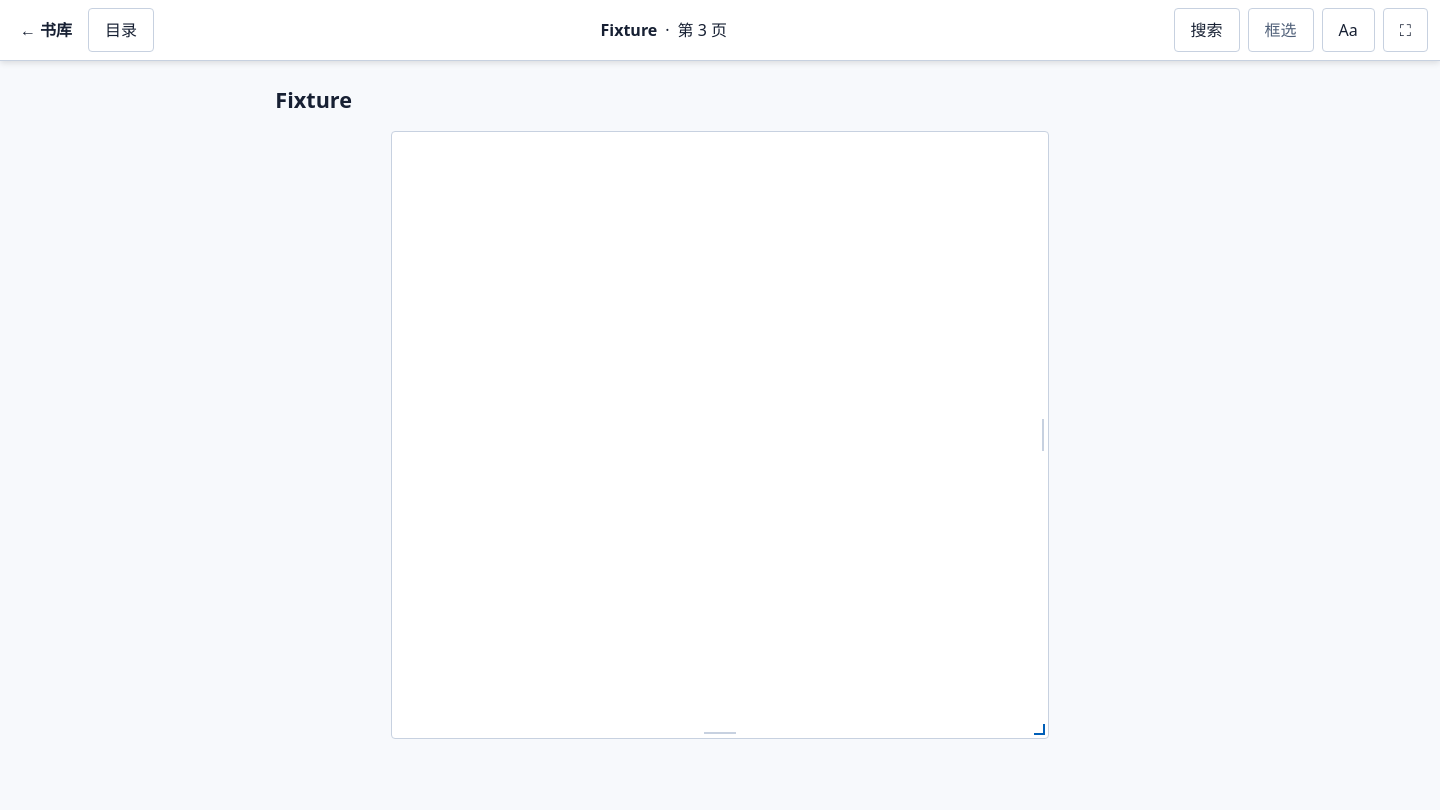
Test: ReaderLayout › renders exactly the minimal toolbar contract and keeps the adapter mount stable across drawers
Expected: the element named "阅读工具栏" shows "书库", [12,8,80,52]
Expected: the element named "阅读工具栏" shows "Fixture · 第 3 页", [0,0,1439,61]
Click the button "目录": (121, 30) [88,8,154,52]
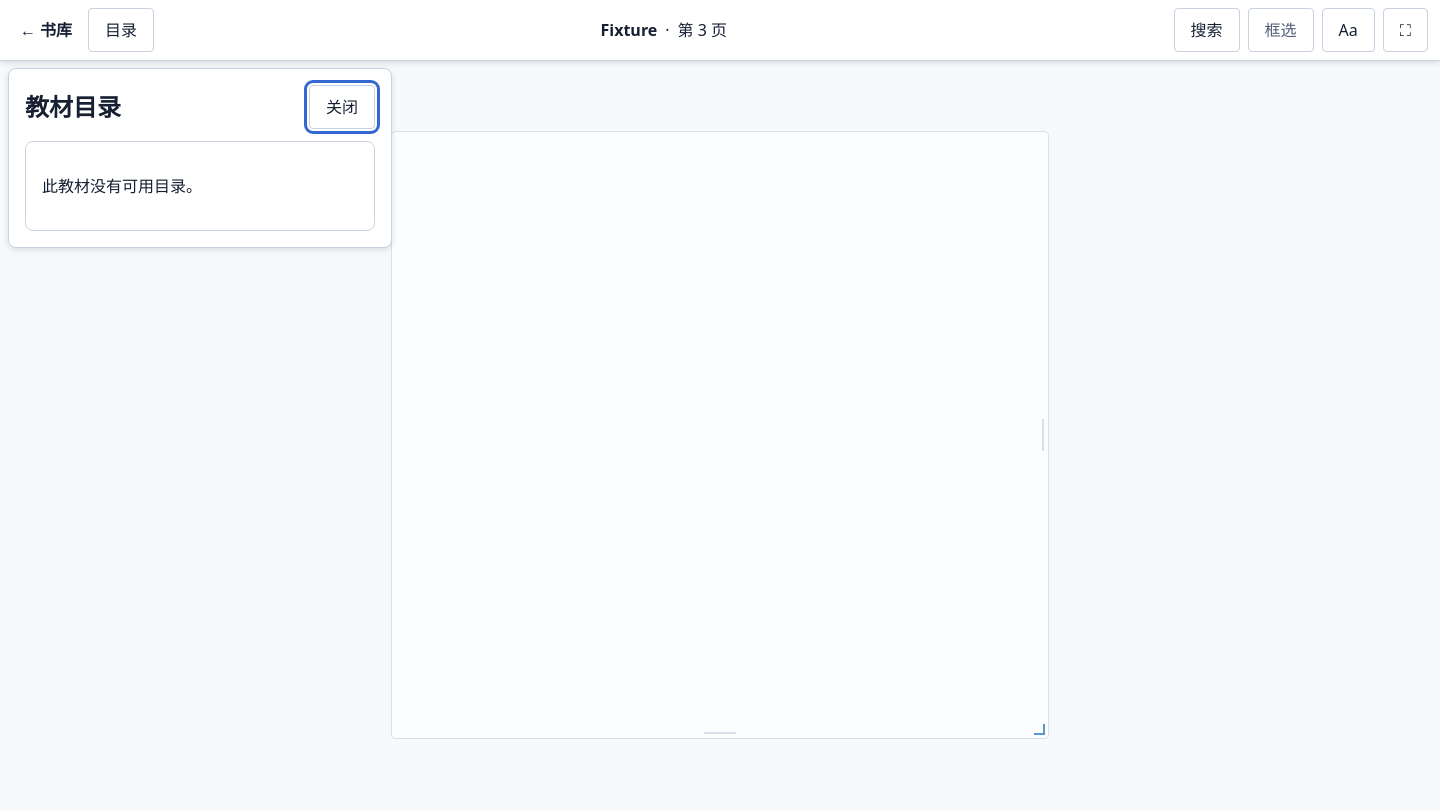
Now the dialog "教材目录" is shown, box [8,68,392,248]
Click the button "关闭": (342, 107) [309,85,375,129]
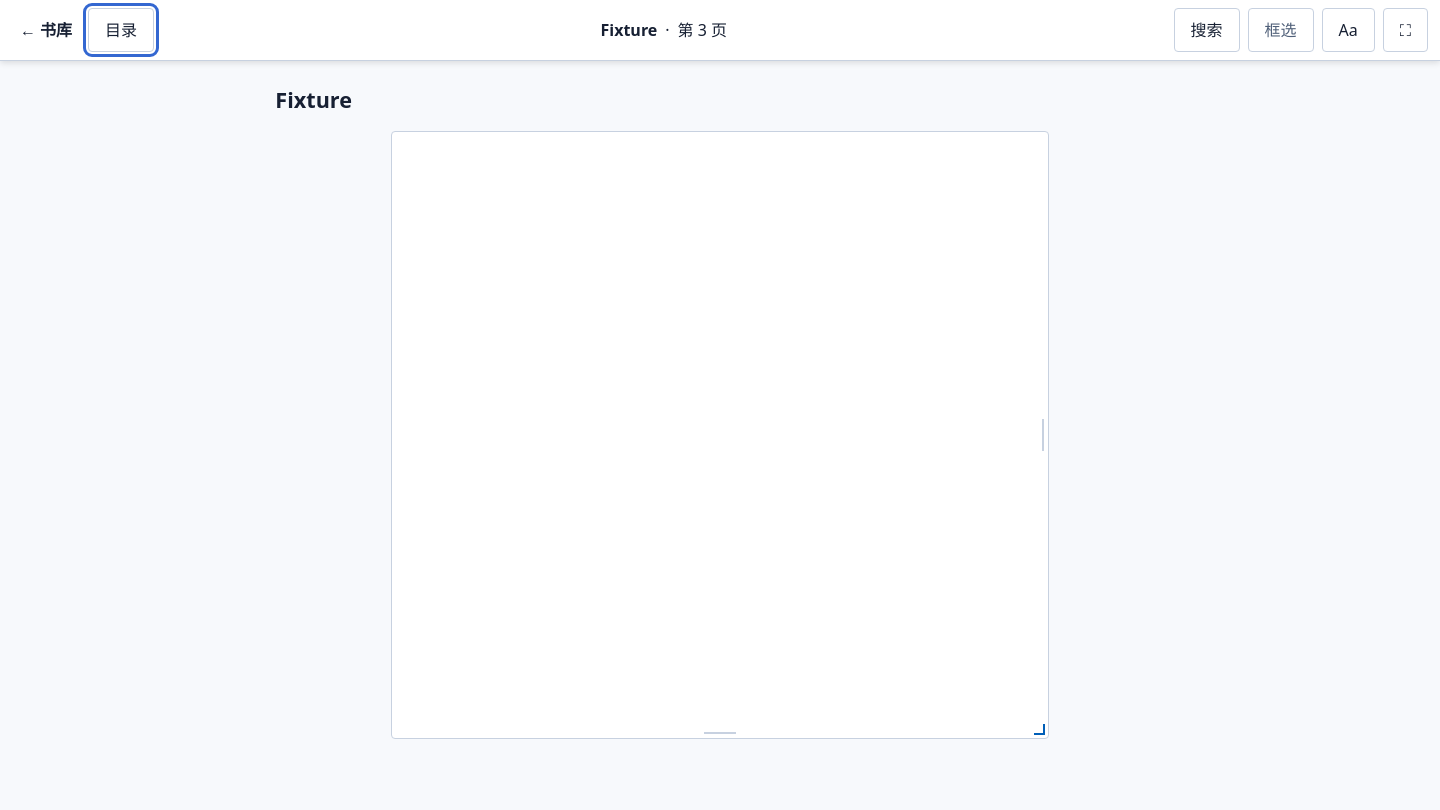
Click the button with aria-label "阅读设置": (1348, 30) [1322,8,1375,52]
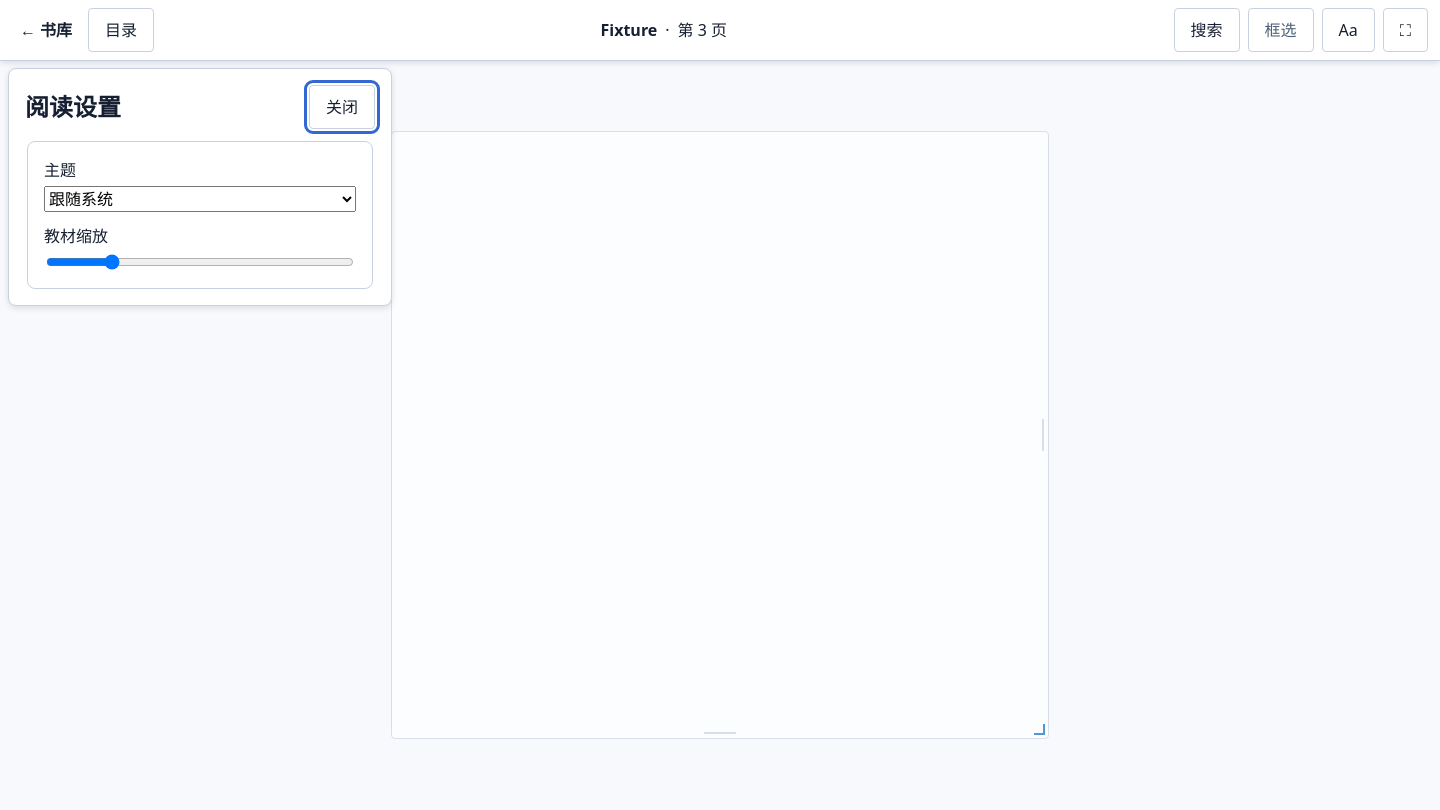
Now the dialog "阅读设置" is shown, box [8,68,392,306]
